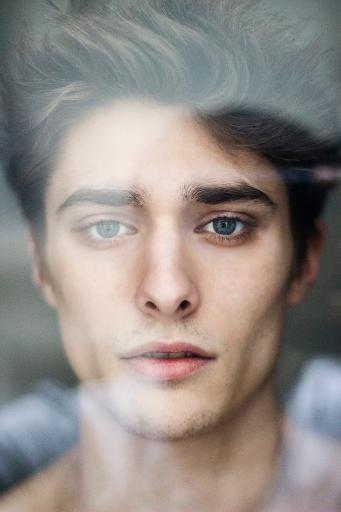left_eye: (193, 212, 260, 246)
left_lip_corner: (205, 349, 222, 369)
right_eye: (73, 217, 142, 248)
right_lip_corner: (114, 348, 134, 372)
